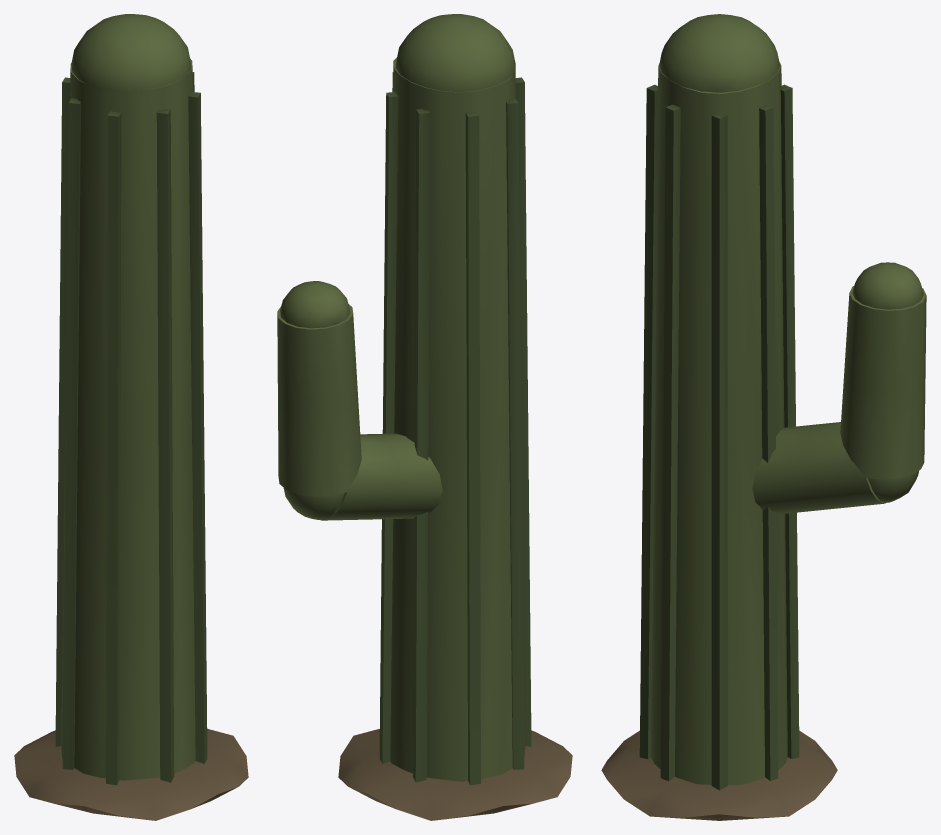
File: saguaro_c.glb
3 views of the same model, side by side, from view 1: azimuth 30°, elevation 25°; view 2: azimuth 150°, elevation 25°; view 3: azimuth 270°, elevation 25° (orthographic).
Visible parts, largest first — view 1: Surface; view 2: Surface; view 3: Surface.
Part boxes in pixels (bbox=[...]): Surface: bbox=[14, 14, 248, 820]; Surface: bbox=[277, 14, 572, 820]; Surface: bbox=[601, 14, 926, 820].
Bounding box in the file's own units: 1.02 × 3.68 × 1.4.
